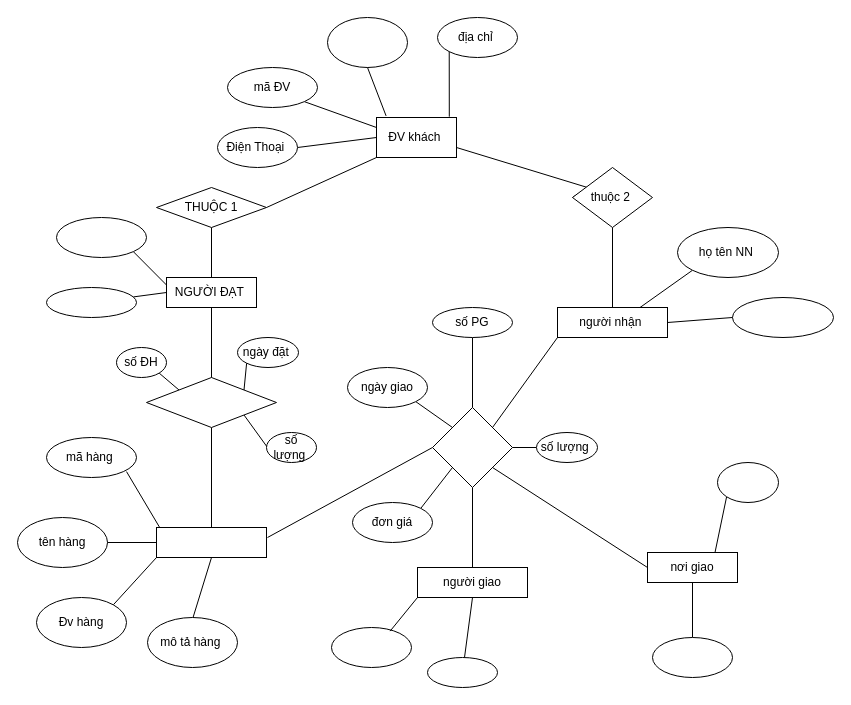
The diagram is 851 pixels wide and 705 high, and some of its shapes have lost their labels. The centre of each missing label's shape, as x and y in pixels:
Giao: the point at 472,447
HÀNG: the point at 211,542
họ tên Ng: the point at 462,672
Họ tên NĐ: the point at 91,302
mã số NG: the point at 371,647
mã số NN: the point at 783,317
mã số NĐ: the point at 101,237
mã số ĐĐG: the point at 692,657
tên nơi giao: the point at 747,482
Tên ĐV: the point at 367,42
đặt: the point at 211,402
